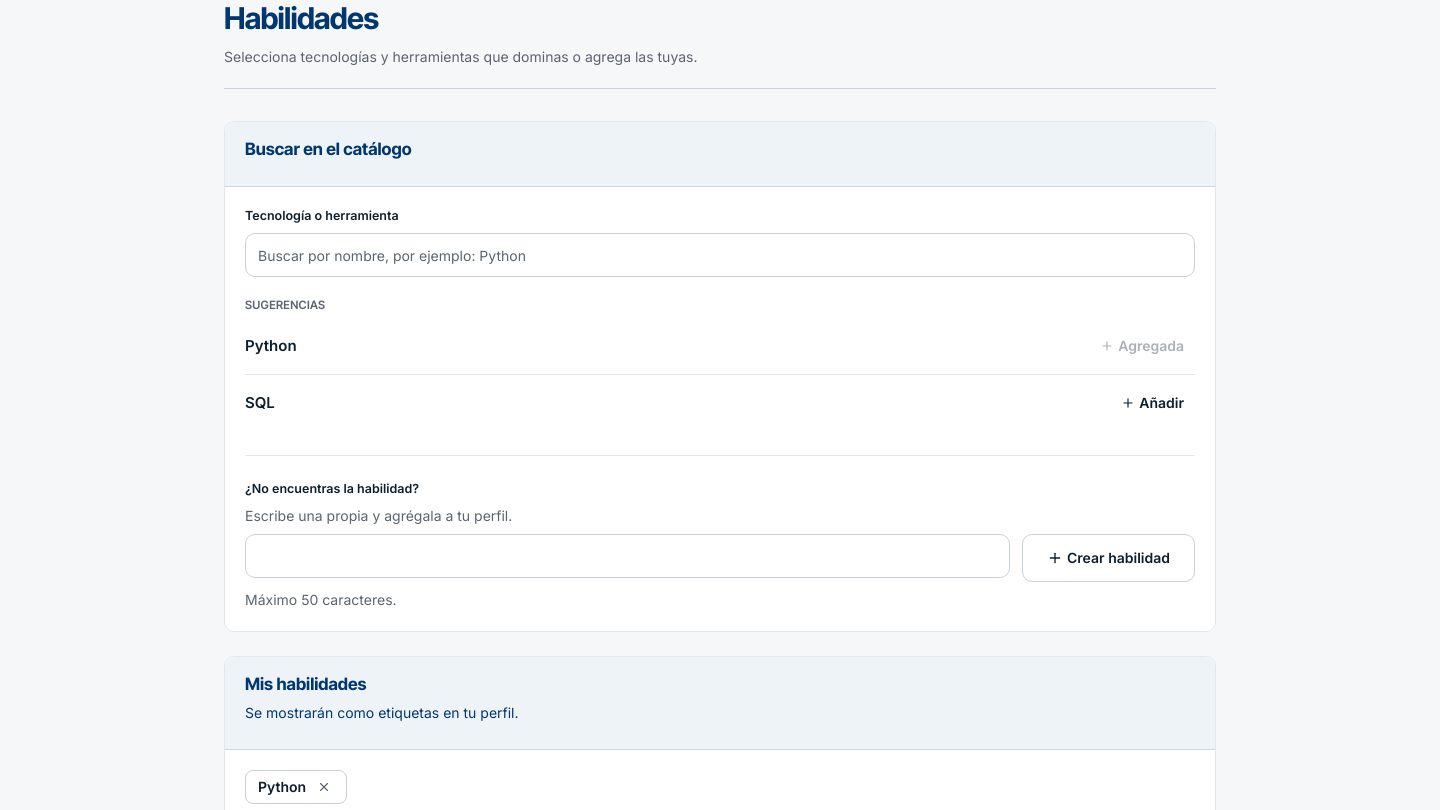
it: SkillsView › adds a catalog skill and saves the whole list
The width and height of the screenshot is (1440, 810).
Expected: the button named "Quitar Python" is shown, [314,777,334,797]
Click the button "Añadir": coordinates (1153, 403) [1110,387,1195,419]
(page scrolled)
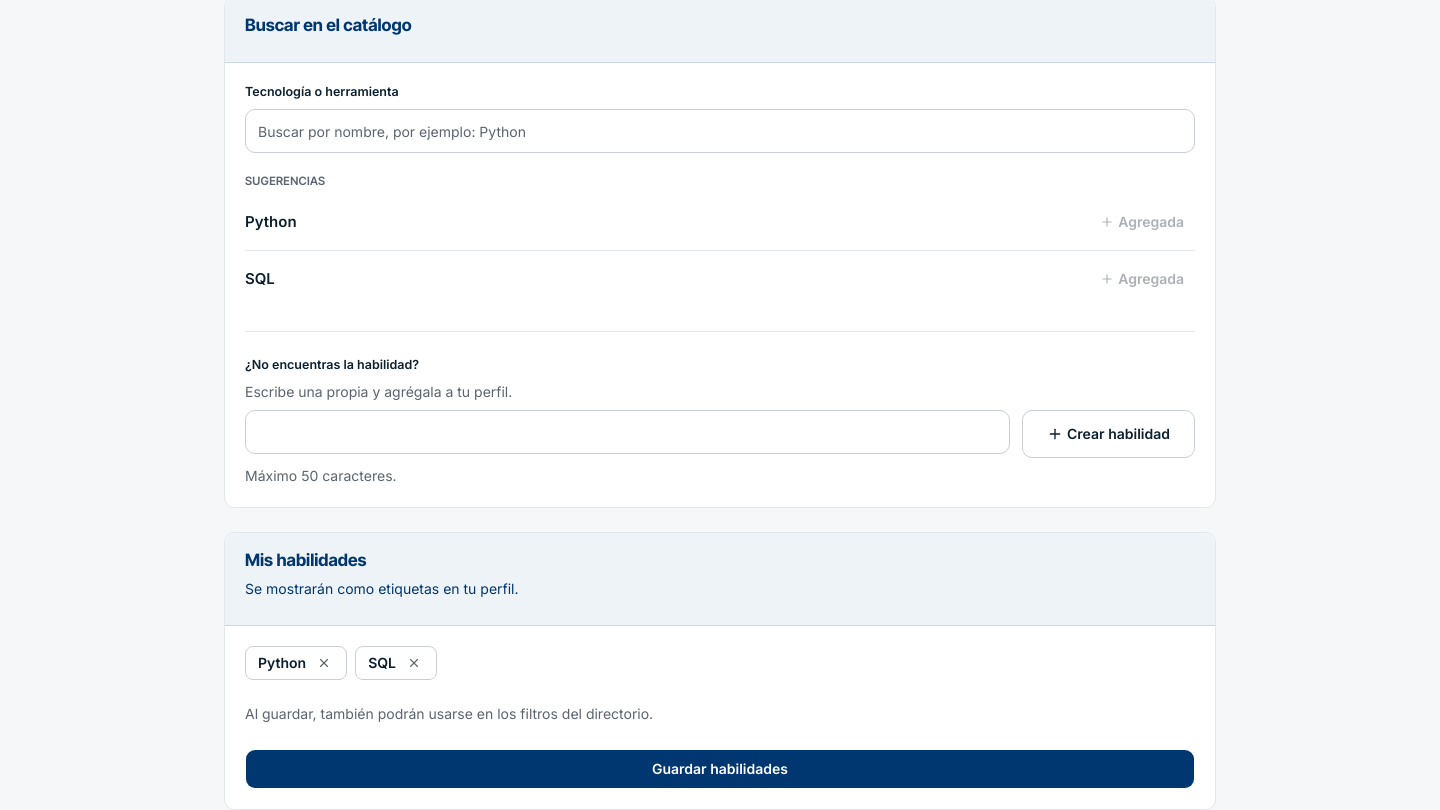
Click the button "Guardar habilidades": coordinates (720, 769) [245,749,1195,789]
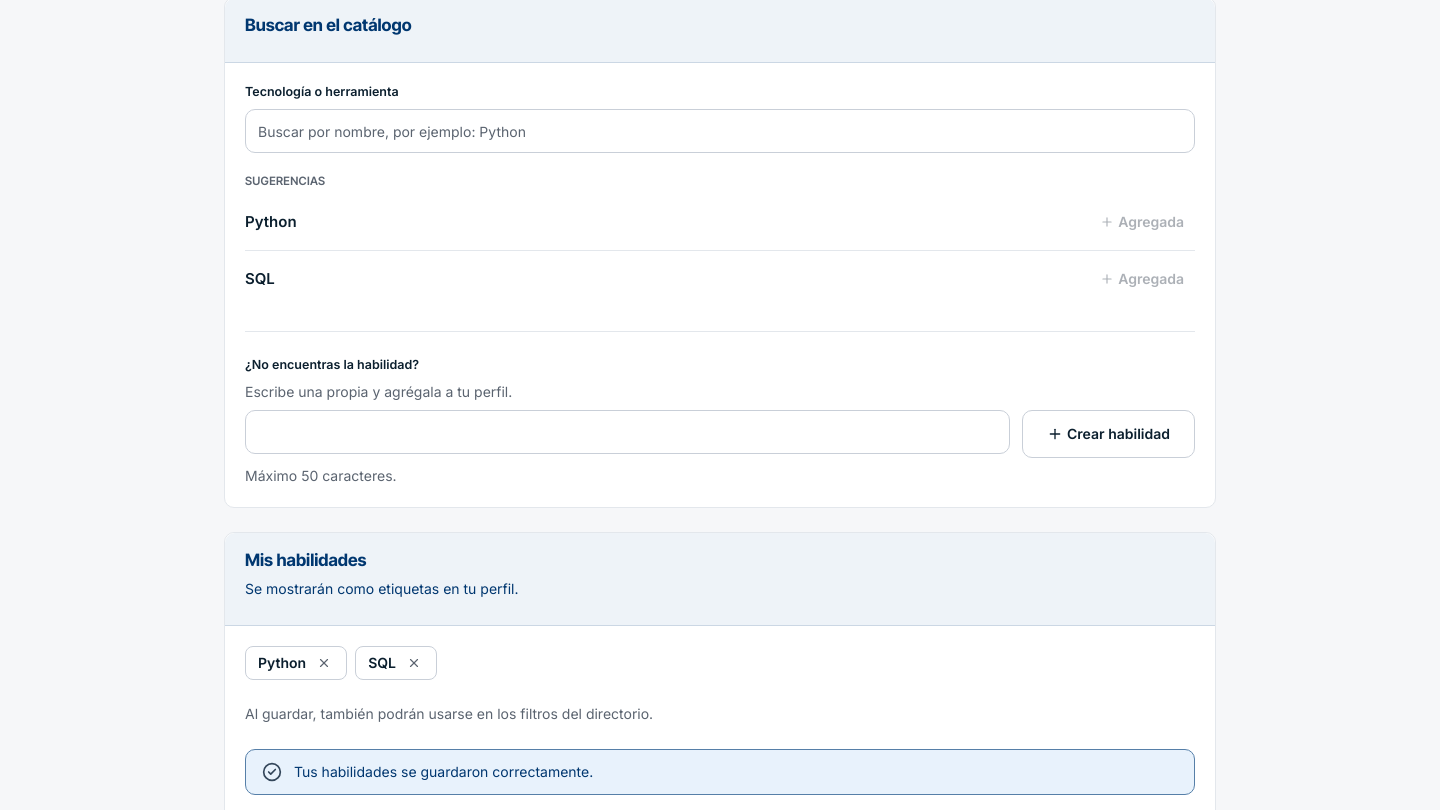
Now the text "Tus habilidades se guardaron correctamente." is shown, box [294,762,593,782]
